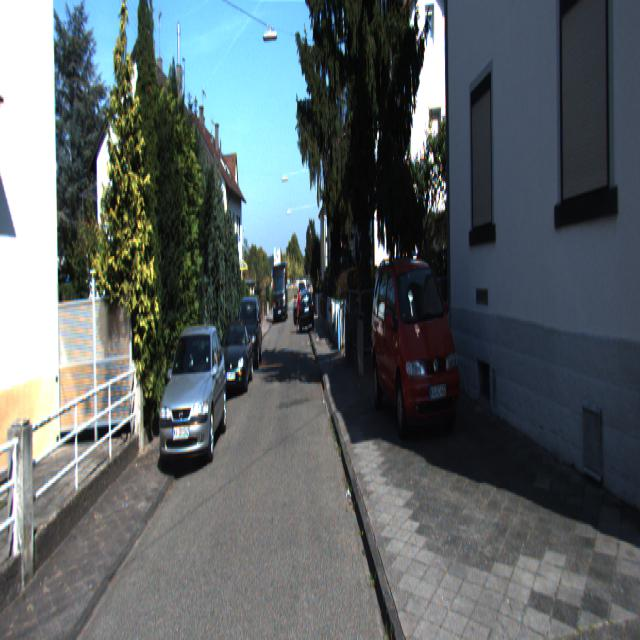Car: (369, 245, 463, 450), (156, 324, 226, 482), (219, 316, 252, 394), (234, 295, 262, 372), (300, 292, 314, 334)
